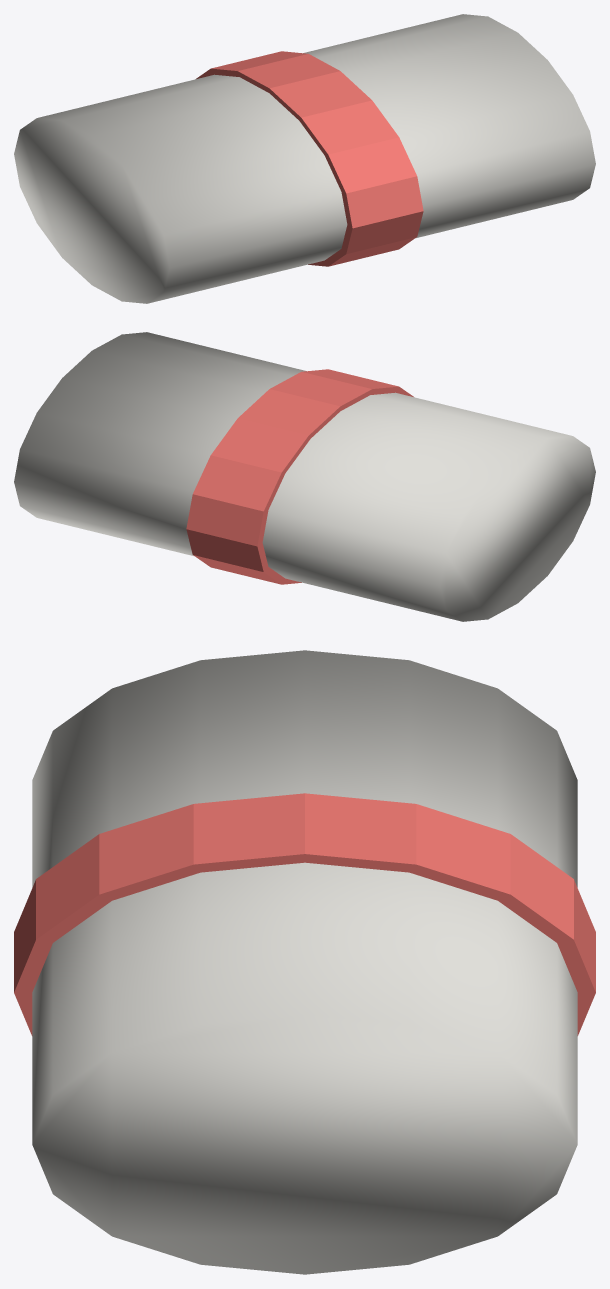
Rendered from NewspaperModel.glb.
3 renders of one model, top to bottom at view 1: azimuth 30°, elevation 25°; view 2: azimuth 150°, elevation 25°; view 3: azimuth 270°, elevation 25°, orthographic. The views are drawn at different scales.
Parts seen in each view (by area): view 1: NewspaperModel; view 2: NewspaperModel; view 3: NewspaperModel.
Part boxes in pixels (left/top/right/bottom): NewspaperModel: left=14, top=14, right=595, bottom=303; NewspaperModel: left=14, top=332, right=595, bottom=621; NewspaperModel: left=14, top=650, right=595, bottom=1274.
Bounding box in the file's own units: 0.36 × 0.128 × 0.2432.
